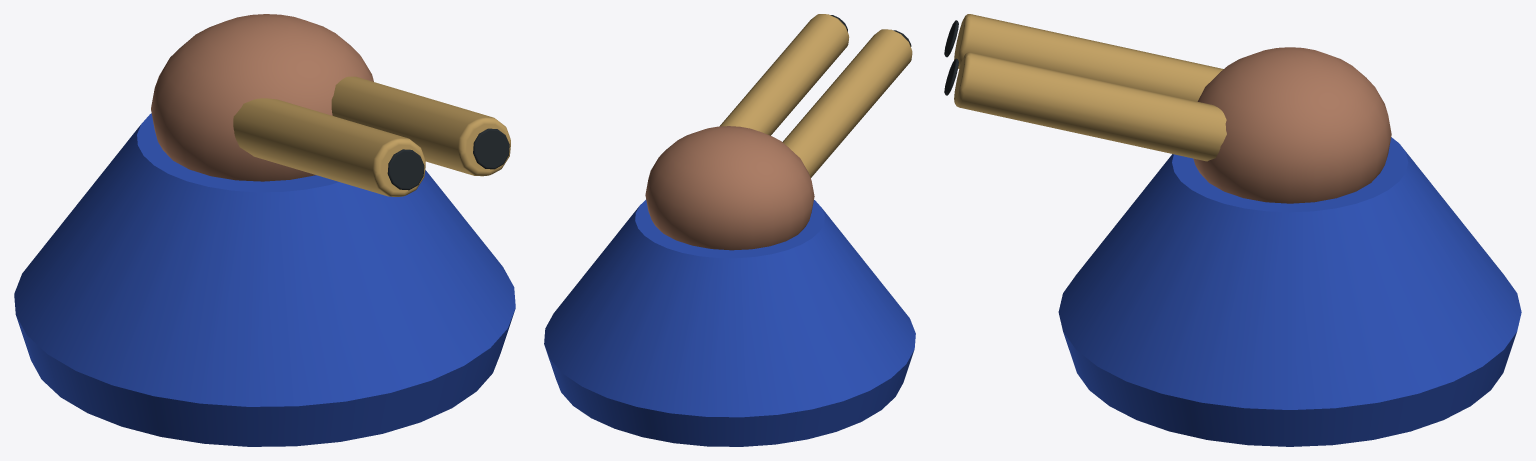
The picture shows the model from 3 angles, left to right: view 1: azimuth 30°, elevation 25°; view 2: azimuth 150°, elevation 25°; view 3: azimuth 270°, elevation 25°; orthographic projection. The views are drawn at different scales.
Visible parts, largest first — view 1: Turret armoured pedestal, Weapon pivot, Weapon barrel, Weapon barrel.001, Weapon dark bore, Weapon dark bore.001; view 2: Turret armoured pedestal, Weapon pivot, Weapon barrel, Weapon barrel.001; view 3: Turret armoured pedestal, Weapon pivot, Weapon barrel.001, Weapon barrel.
Boxes of the visible parts, x1,y1,x2,y2 form: Turret armoured pedestal: (14, 113, 515, 446); Weapon pivot: (151, 14, 373, 181); Weapon barrel: (233, 98, 425, 196); Weapon barrel.001: (331, 76, 510, 176); Weapon dark bore: (387, 149, 424, 190); Weapon dark bore.001: (473, 128, 509, 169); Turret armoured pedestal: (544, 199, 915, 446); Weapon pivot: (645, 126, 814, 250); Weapon barrel: (782, 29, 912, 177); Weapon barrel.001: (719, 14, 849, 135); Turret armoured pedestal: (1058, 137, 1521, 446); Weapon pivot: (1193, 47, 1391, 203); Weapon barrel.001: (954, 52, 1226, 161); Weapon barrel: (954, 14, 1223, 101).
Bounding box in the file's own units: 1.96 × 1.49 × 2.44.
